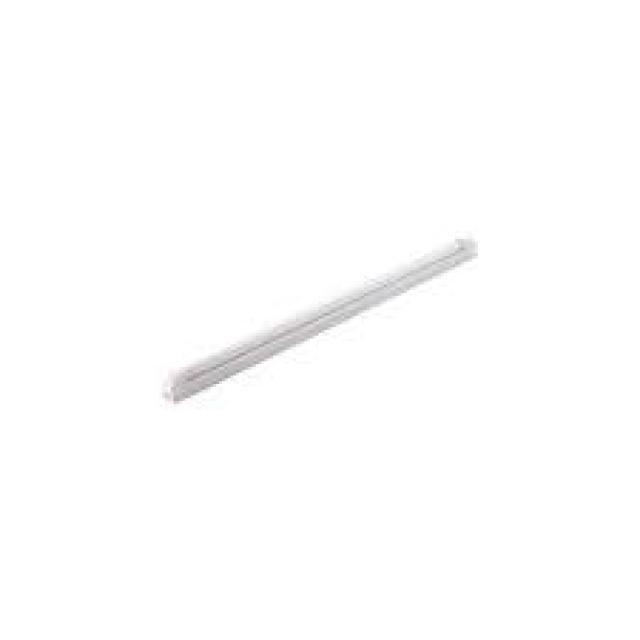tubelight_off: (157, 225, 481, 409)
